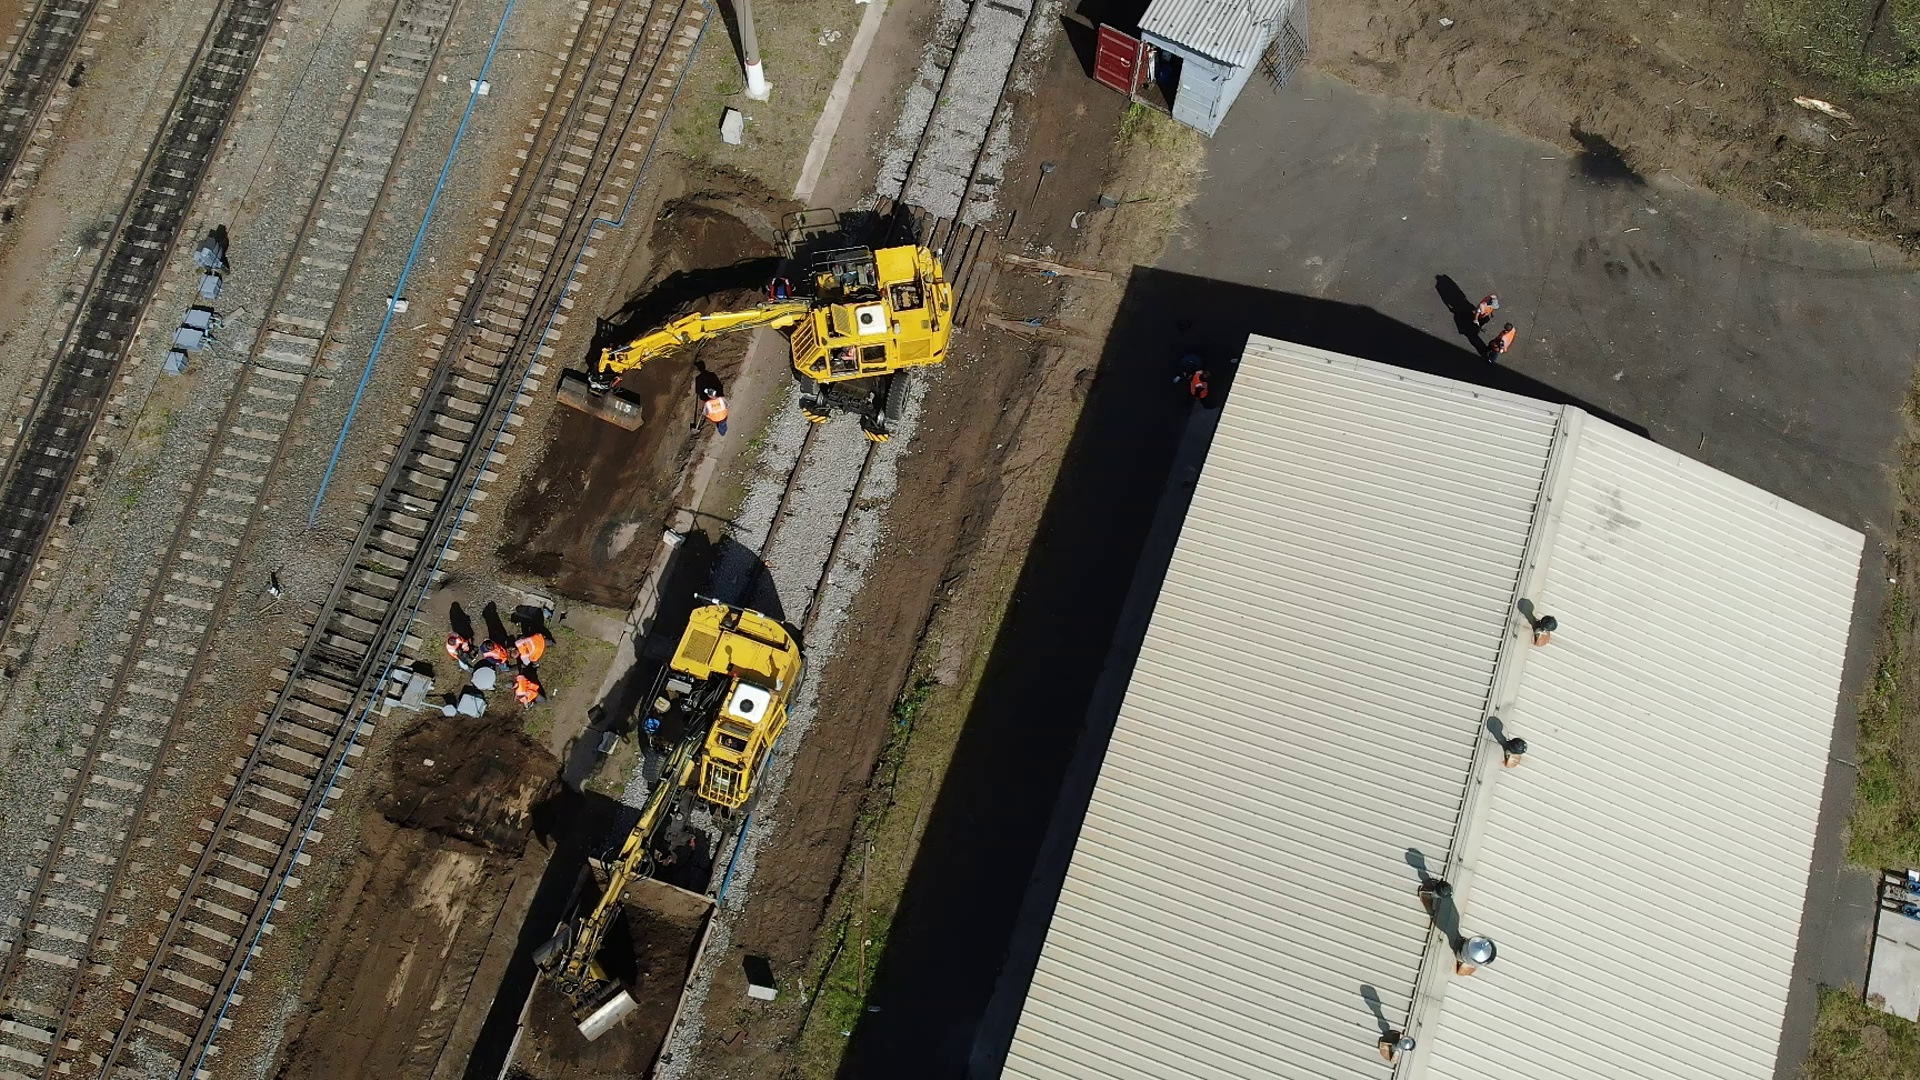kjtv: (636, 599, 819, 851), (704, 248, 951, 417)
